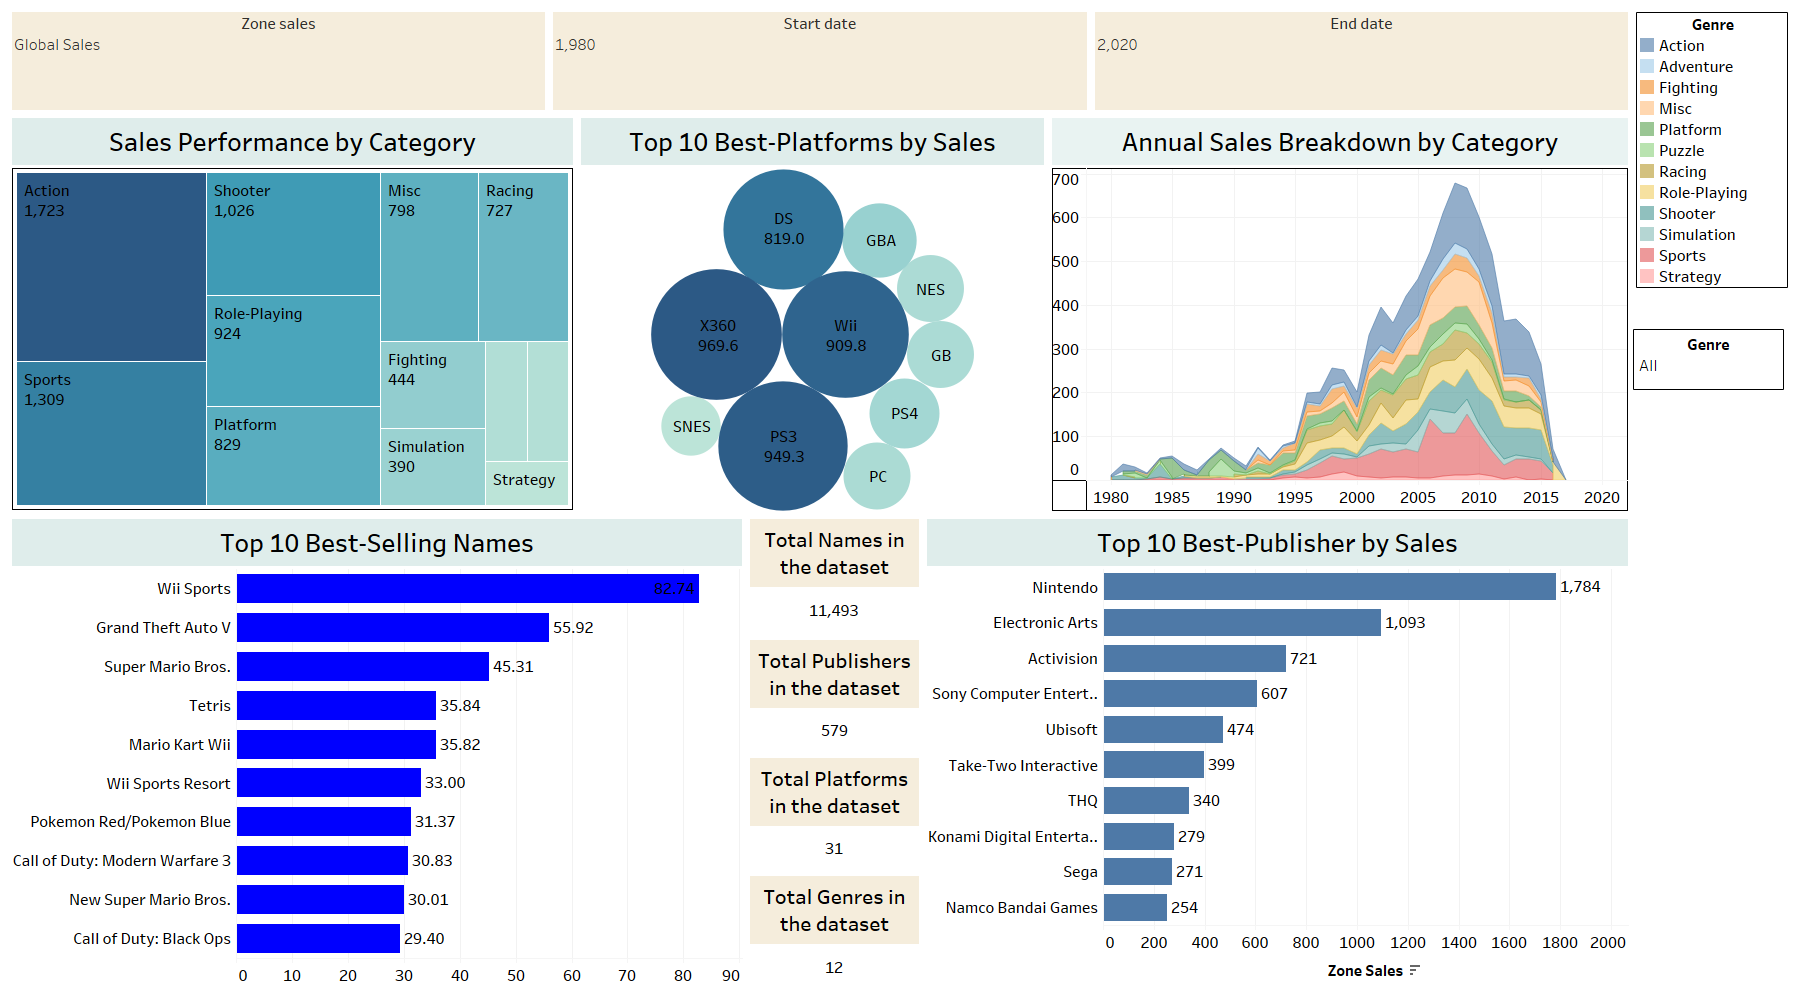

The dashboard page shown, as its layout file describes it:
{"tool":"tableau","page":{"name":"Dashboard 1","canvas":[1800,1000],"ordinal":0},"visuals":[{"type":"parameter","param":"[Parameters].[Parameter 1]","box":[8,8,541,105.7]},{"type":"parameter","param":"[Parameters].[Parameter 2]","box":[549,8,542,105.7]},{"type":"parameter","param":"[Parameters].[Parameter 3]","box":[1091,8,541,105.7]},{"type":"legend","title":"Annual Sales Breakdown by Category","param":"[federated.0q985sa10rplqa17ida67196u6pr].[none:Genre:nk]","box":[1632,8,160,284]},{"type":"worksheet","title":"Sales Performance by Category","mark":"Automatic","box":[8,113.7,569,401.3]},{"type":"worksheet","title":"Top 10 Best-Platforms by Sales","mark":"Circle","box":[577,113.7,471,401.3]},{"type":"worksheet","title":"Annual Sales Breakdown by Category","mark":"Area","rows":["Calculation_1432707638150275072"],"cols":["Year"],"box":[1048,113.7,584,401.3]},{"type":"filter","title":"Annual Sales Breakdown by Category","param":"[federated.0q985sa10rplqa17ida67196u6pr].[none:Genre:nk]","box":[1633,329,151,61]},{"type":"worksheet","title":"Top 10 Best-Selling Names","mark":"Automatic","rows":["Name"],"cols":["Calculation_1432707638150275072"],"box":[8,515,738,477]},{"type":"worksheet","title":"Total Names in the dataset","mark":"Automatic","box":[746,515,177,121]},{"type":"worksheet","title":"Top 10 Best-Publisher by Sales","mark":"Automatic","rows":["Publisher"],"cols":["Calculation_1432707638150275072"],"box":[923,515,709,477]},{"type":"worksheet","title":"Total Publishers in the dataset","mark":"Automatic","box":[746,636,177,118]},{"type":"worksheet","title":"Total Platforms in the dataset","mark":"Automatic","box":[746,754,177,118]},{"type":"worksheet","title":"Total Genres in the dataset","mark":"Automatic","box":[746,872,177,120]}]}

Visuals, with their boxes in screenshot pixels (x1, y1, x2, y2), scaled from the page's 1800x1000 canvas onto the 1800x1000 screenshot:
parameter: bbox=(8, 8, 549, 114)
parameter: bbox=(549, 8, 1091, 114)
parameter: bbox=(1091, 8, 1632, 114)
"Annual Sales Breakdown by Category" legend: bbox=(1632, 8, 1792, 292)
"Sales Performance by Category" worksheet: bbox=(8, 114, 577, 515)
"Top 10 Best-Platforms by Sales" worksheet (Circle marks): bbox=(577, 114, 1048, 515)
"Annual Sales Breakdown by Category" worksheet (Area marks): bbox=(1048, 114, 1632, 515)
"Annual Sales Breakdown by Category" filter: bbox=(1633, 329, 1784, 390)
"Top 10 Best-Selling Names" worksheet: bbox=(8, 515, 746, 992)
"Total Names in the dataset" worksheet: bbox=(746, 515, 923, 636)
"Top 10 Best-Publisher by Sales" worksheet: bbox=(923, 515, 1632, 992)
"Total Publishers in the dataset" worksheet: bbox=(746, 636, 923, 754)
"Total Platforms in the dataset" worksheet: bbox=(746, 754, 923, 872)
"Total Genres in the dataset" worksheet: bbox=(746, 872, 923, 992)
